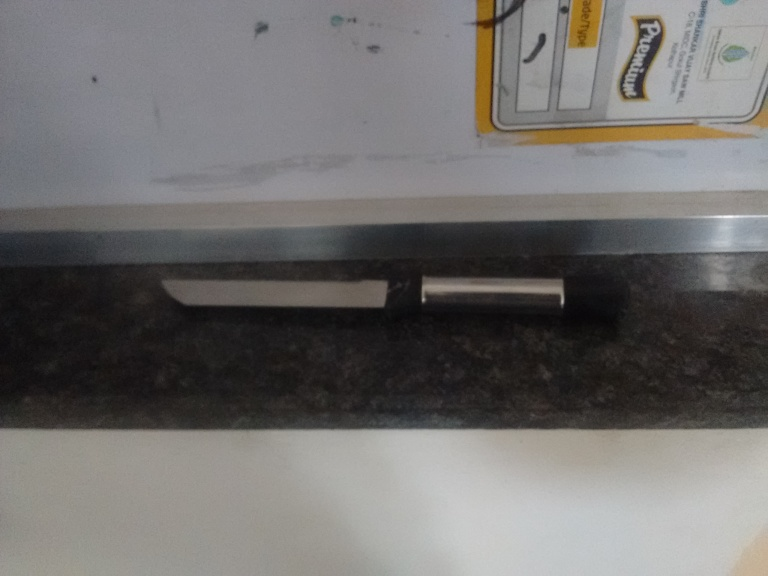knife: (160, 271, 630, 322)
